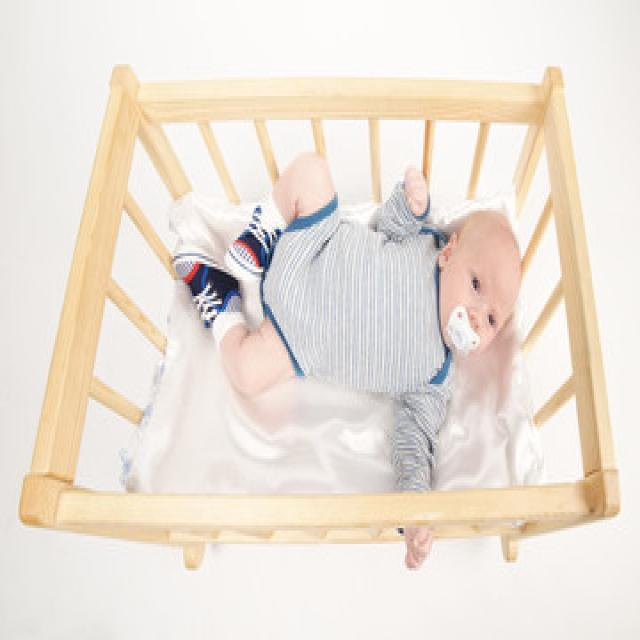baby: (166, 150, 524, 443)
crib: (42, 81, 622, 555)
